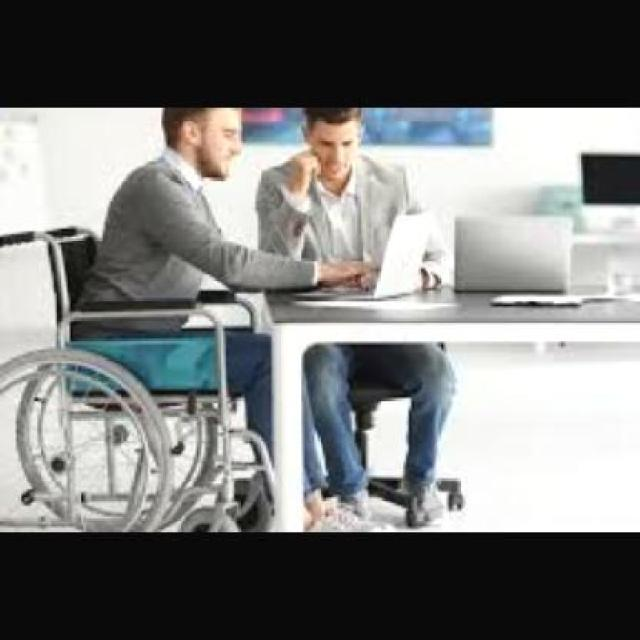wheelchairs: (3, 217, 295, 532)
